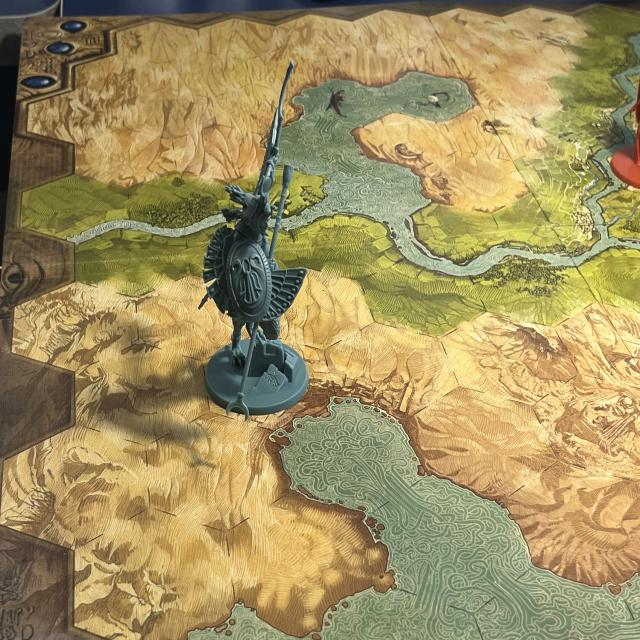isis: (170, 66, 366, 419)
